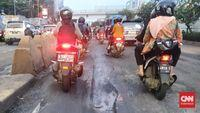Pothole: (90, 80, 127, 113)
